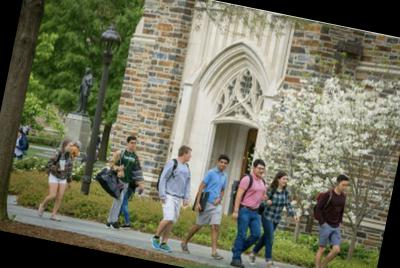without_mask: (337, 180, 349, 193), (254, 164, 266, 176), (218, 159, 229, 172), (278, 175, 289, 187), (185, 150, 194, 162), (129, 139, 137, 151), (67, 142, 75, 152)
